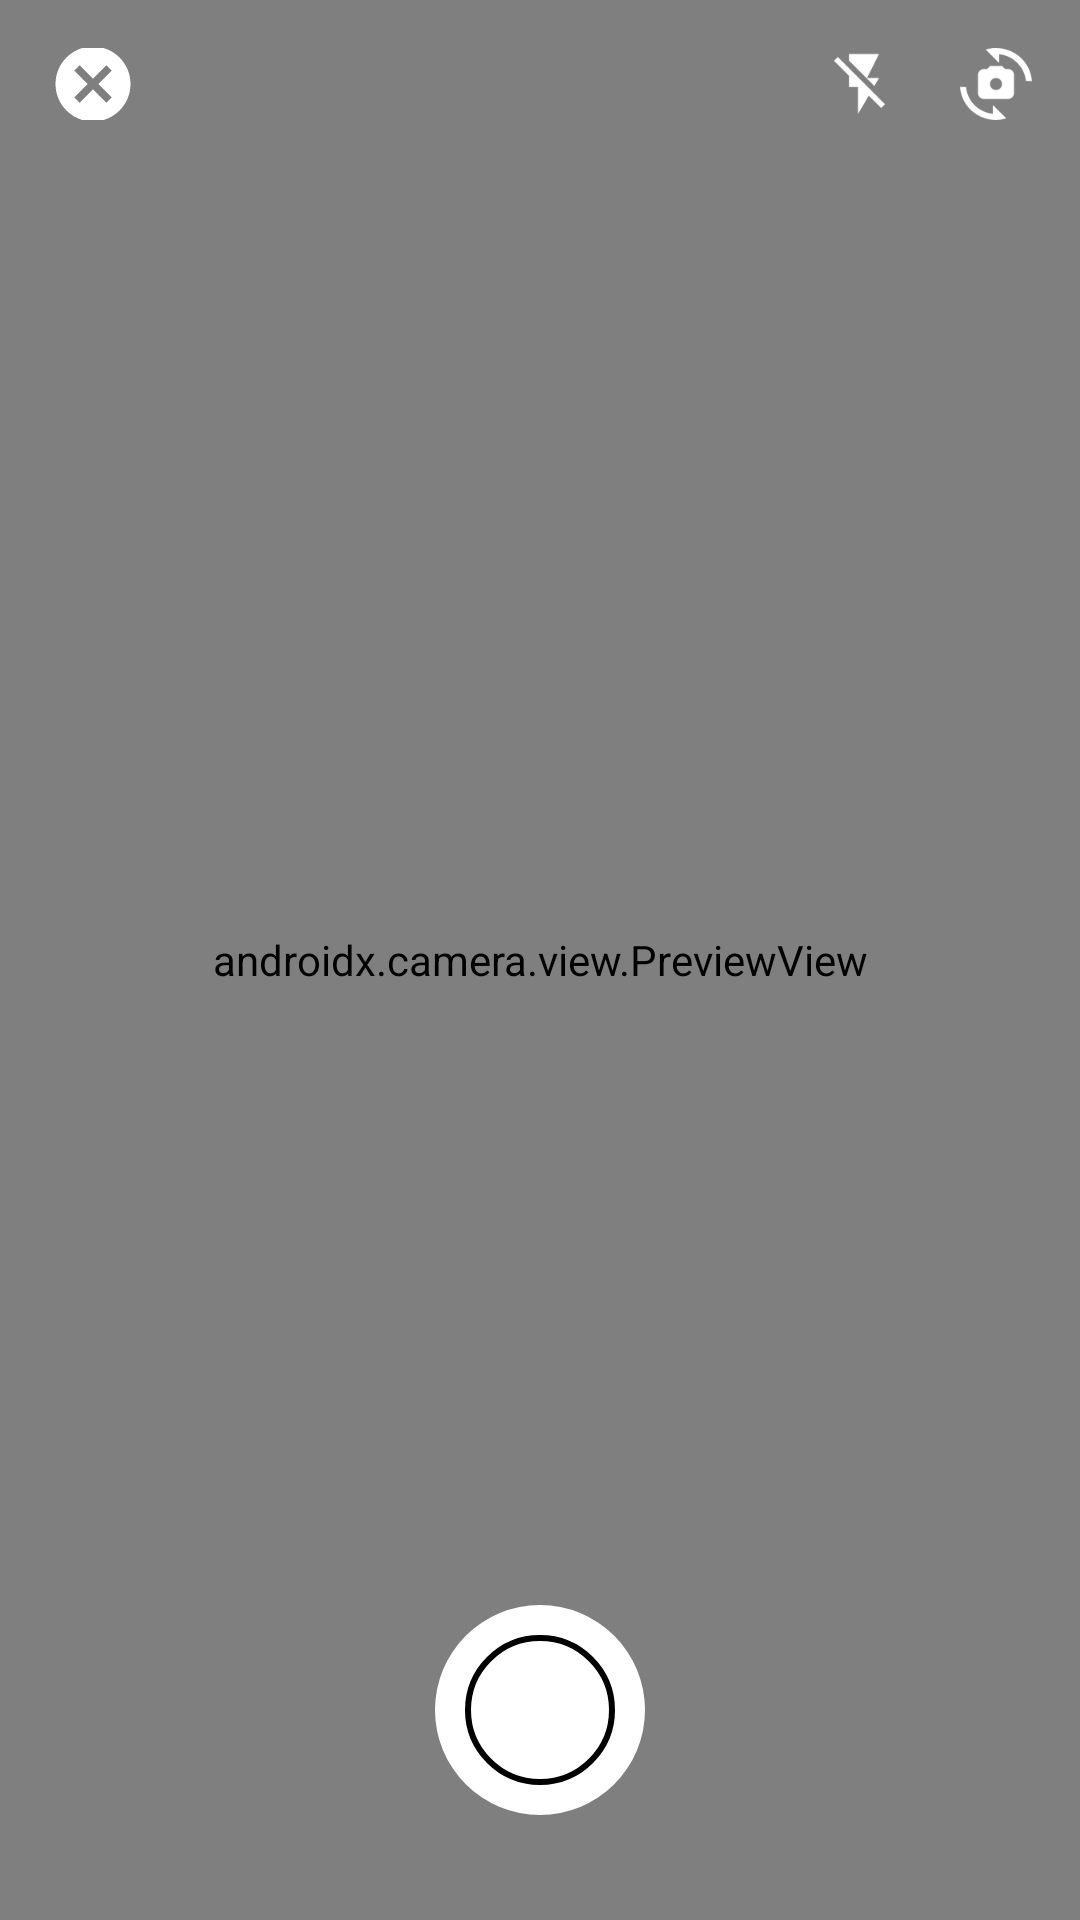

Named icons in this screenshot (1080*1920) and their bounding boxes, Rect(x1, y1, x2, y2):
camera switch: Rect(960, 48, 1032, 120)
cancel: Rect(55, 48, 131, 120)
flash off: Rect(834, 54, 885, 113)
